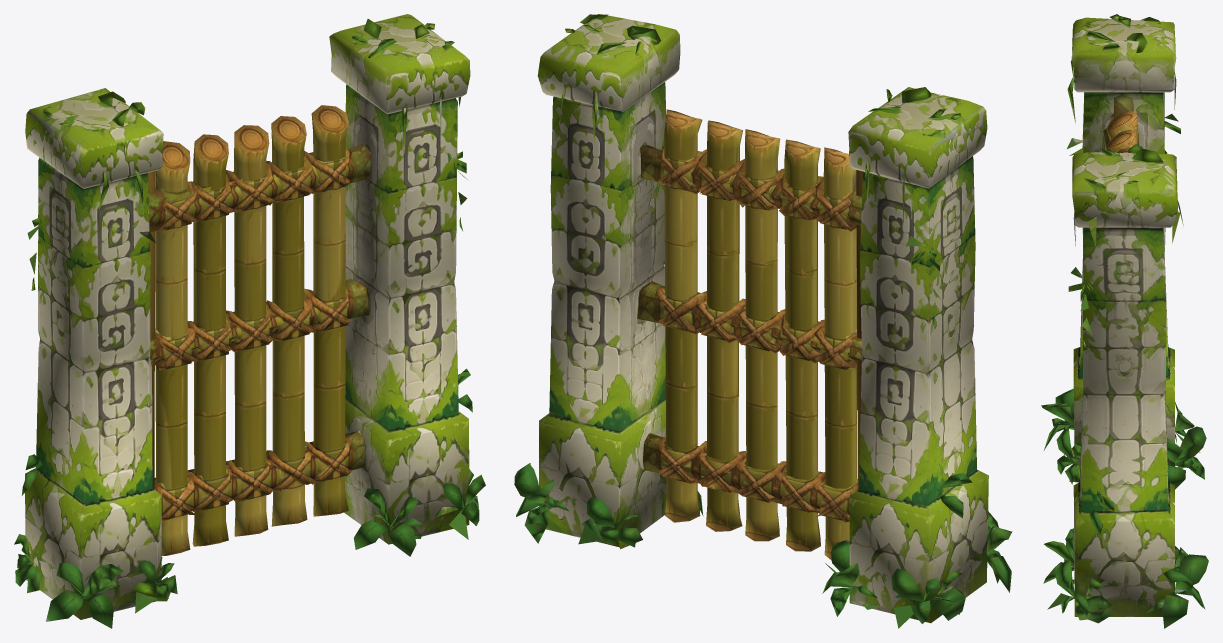
File: Gate.fbx
3 views of the same model, side by side, from view 1: azimuth 30°, elevation 25°; view 2: azimuth 150°, elevation 25°; view 3: azimuth 270°, elevation 25° (orthographic). The views are drawn at different scales.
Parts seen in each view (by area): view 1: Gate; view 2: Gate; view 3: Gate.
Boxes of the visible parts, <box> form: Gate: <box>14,14,485,628</box>; Gate: <box>514,14,1012,628</box>; Gate: <box>1041,14,1208,628</box>.
Size of the model in its own units: 3.45 by 3.6 by 1.24.
1 material, 1 textured.
